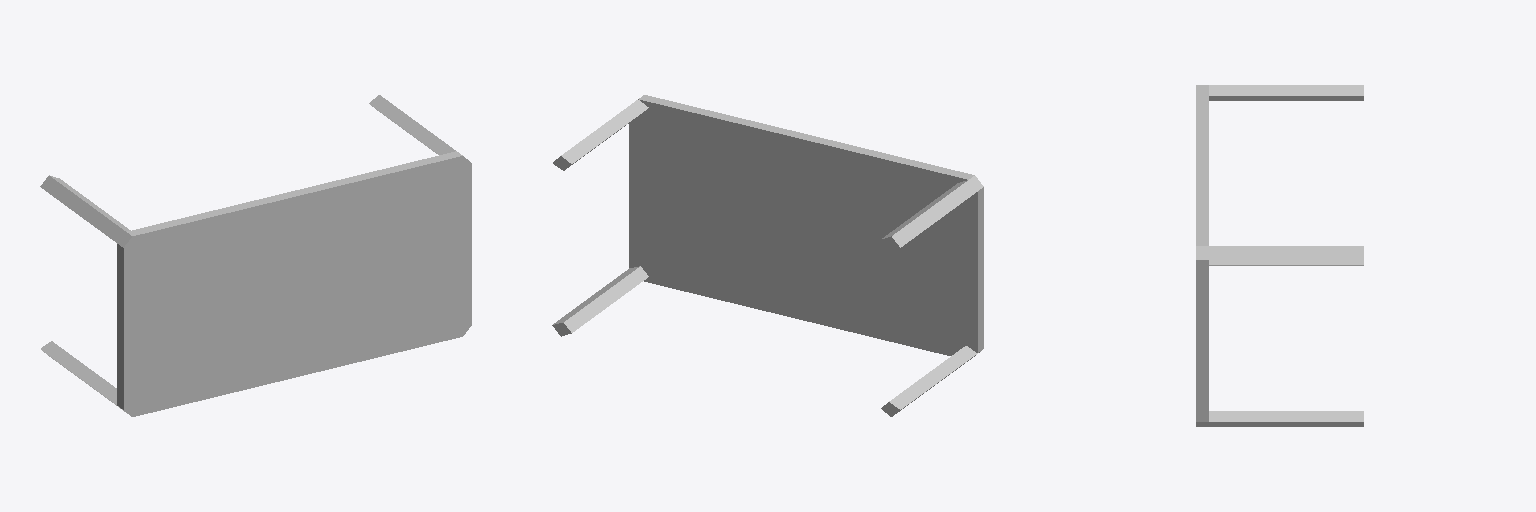
File: Table.obj
3 views of the same model, side by side, from view 1: azimuth 30°, elevation 25°; view 2: azimuth 150°, elevation 25°; view 3: azimuth 270°, elevation 25° (orthographic).
Parts seen in each view (by area): view 1: pCube27; view 2: pCube27; view 3: pCube27.
Boxes of the visible parts, <box> form: pCube27: <box>40,95,471,416</box>; pCube27: <box>552,95,983,416</box>; pCube27: <box>1196,85,1363,426</box>.
Bounding box in the file's own units: 435 × 216 × 180.